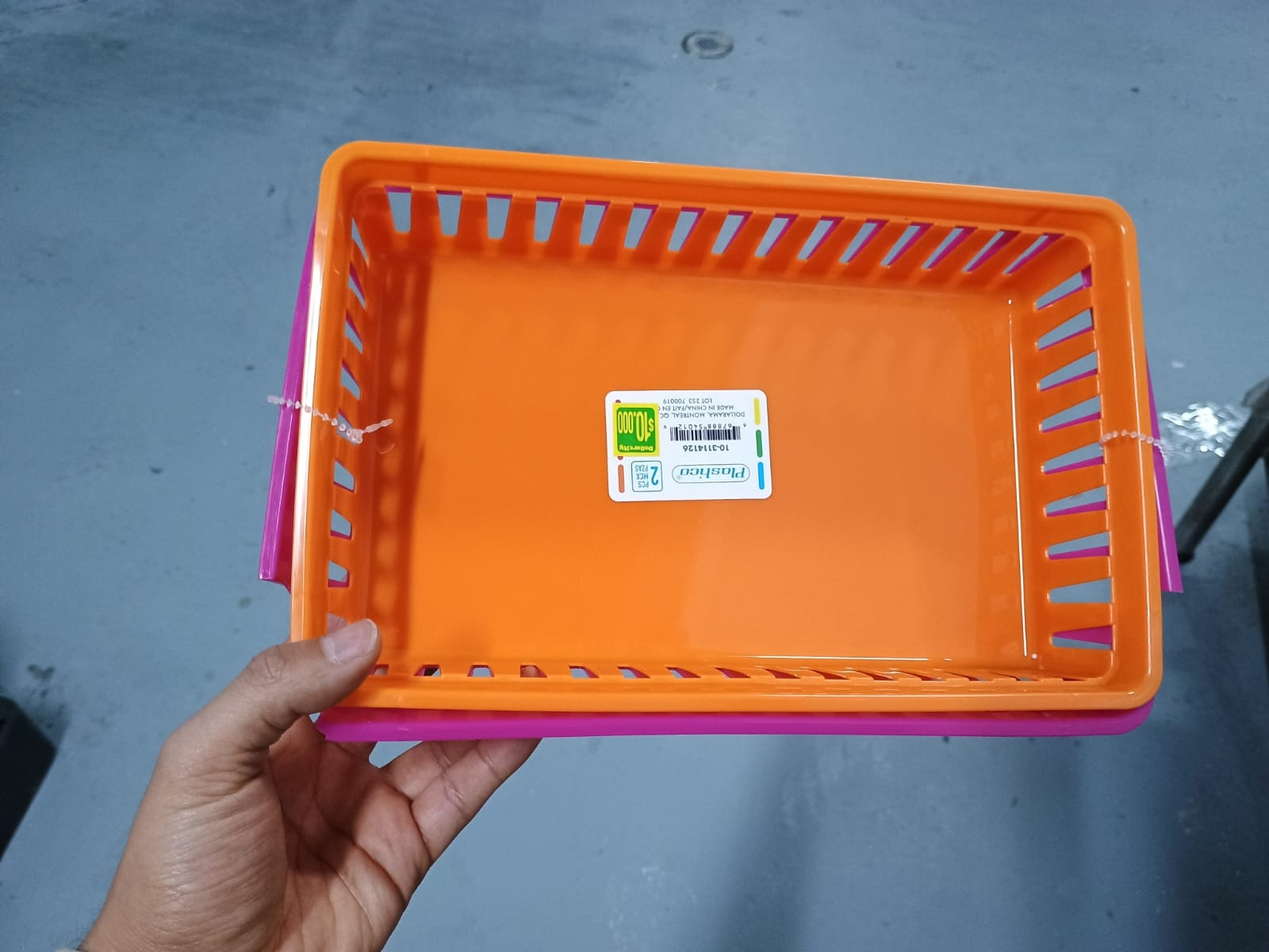Plastico: (260, 141, 1184, 742)
